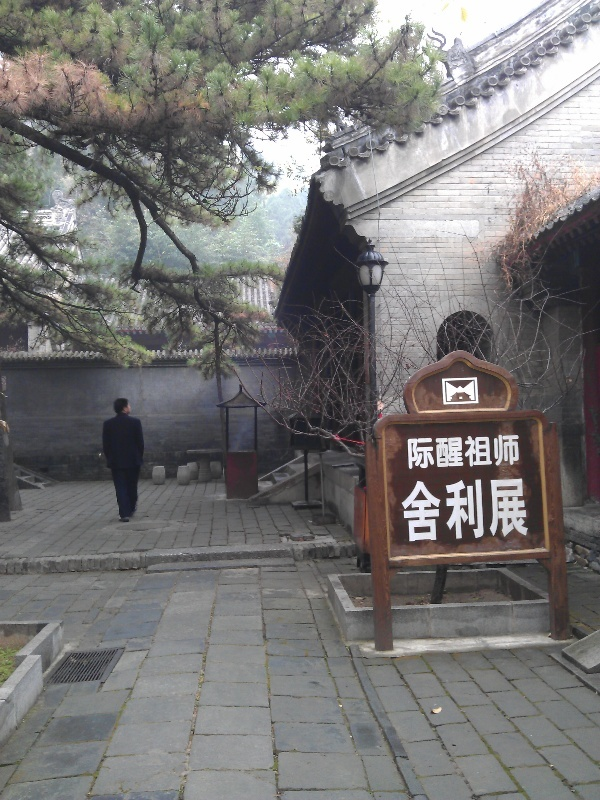text: (401, 476, 416, 546), (417, 476, 432, 546), (433, 476, 448, 546), (449, 476, 464, 546), (465, 476, 480, 546), (481, 476, 496, 546), (497, 476, 512, 546), (513, 476, 528, 546), (417, 433, 432, 470), (433, 433, 448, 470), (449, 433, 464, 470), (465, 433, 480, 470), (481, 433, 496, 470), (497, 433, 512, 470), (405, 433, 416, 470), (513, 433, 523, 470), (529, 476, 530, 546)
